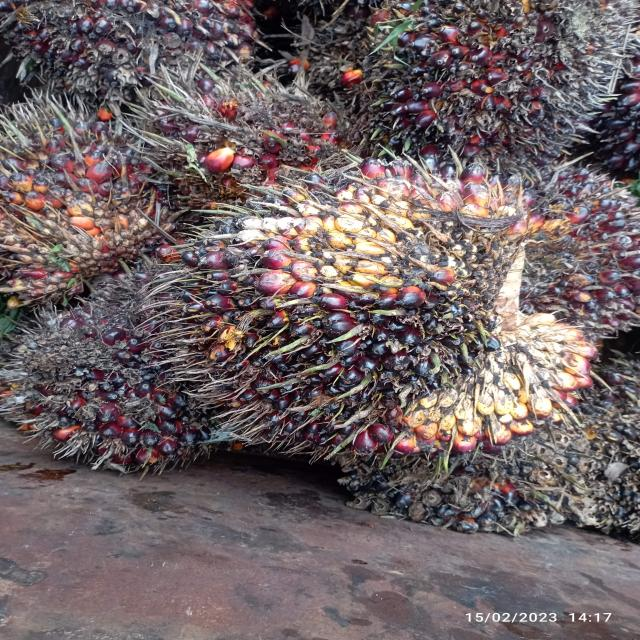fraksi 00: (144, 156, 616, 478)
fraksi 1: (0, 262, 231, 475), (359, 1, 640, 152), (116, 72, 337, 188), (0, 93, 147, 265)
